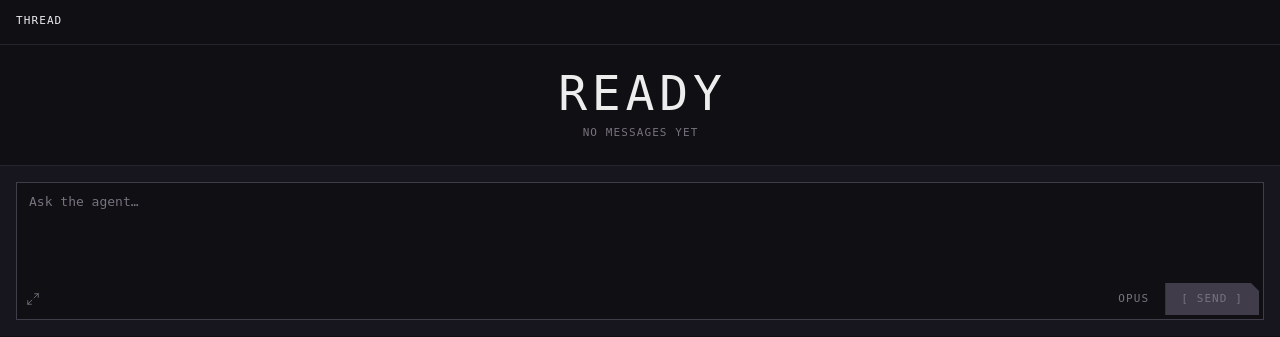
Scenario: expands the composer for long prompts and collapses it once sent
Click the button named "Expand composer".
click(33, 299)  # box [21,287,45,311]
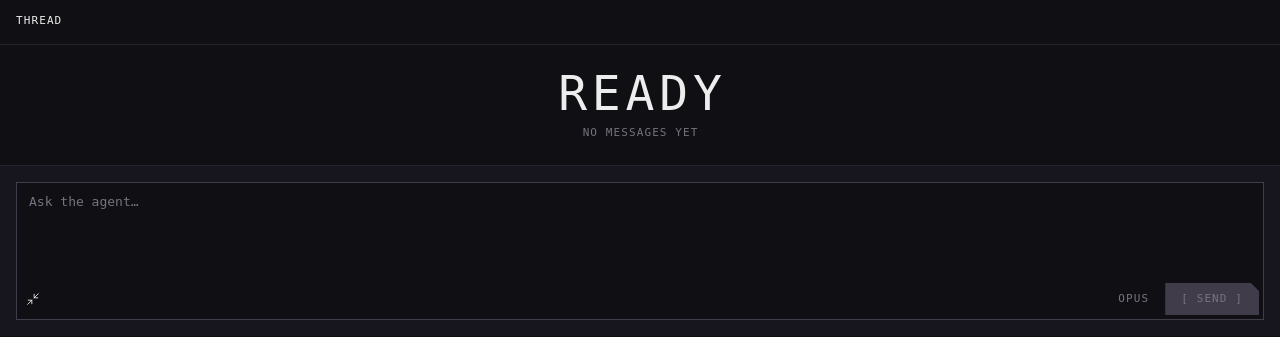
Result: the button named "Expand composer" is expanded at [21,287,45,311]
Type keys "a long prompt{Enter}"
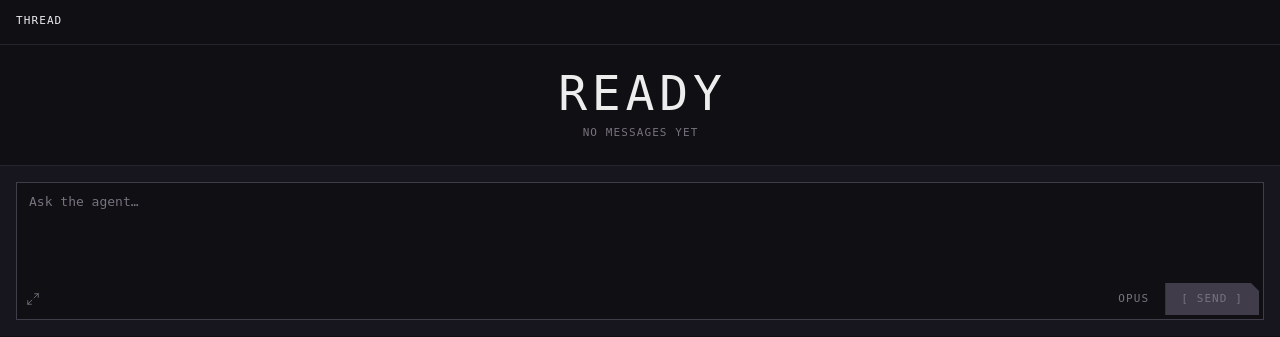
Result: the button named "Expand composer" is collapsed at [21,287,45,311]
